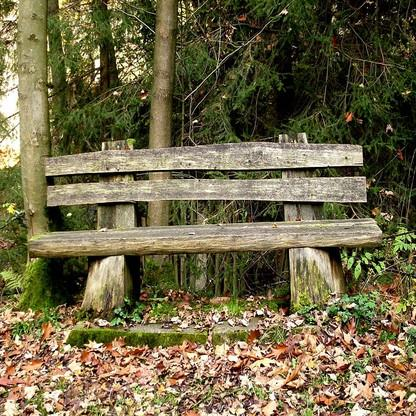obstacle: (24, 133, 387, 296)
